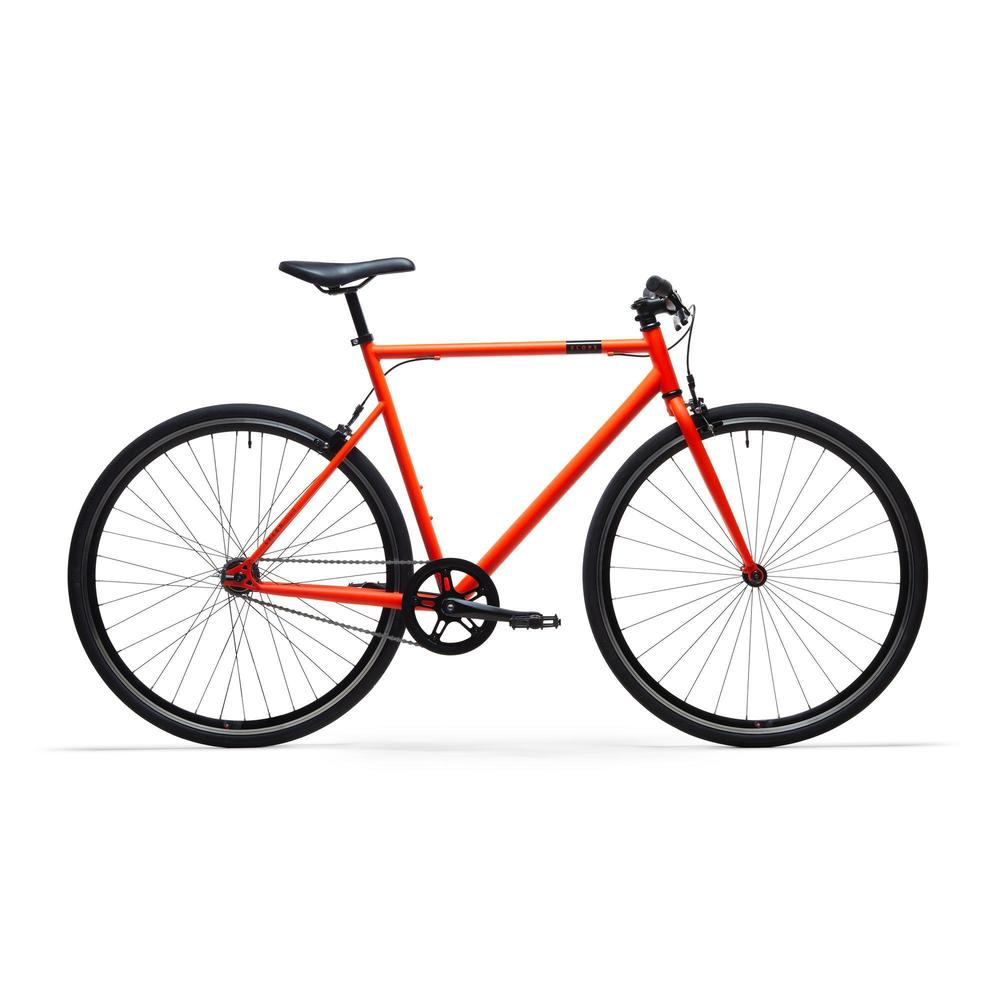UrbanBike: (53, 253, 930, 762)
